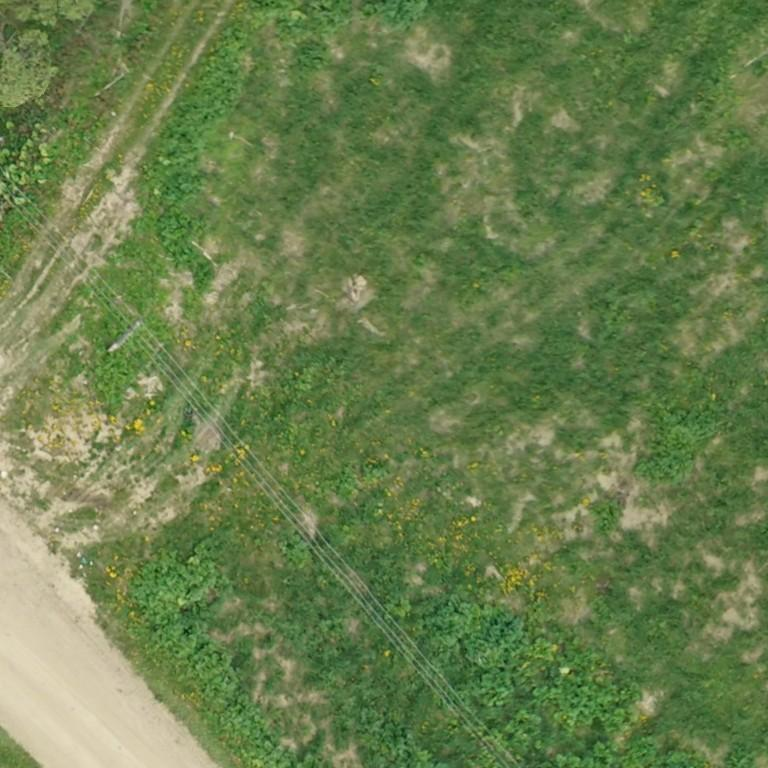hogweed: (131, 540, 321, 767), (407, 595, 615, 755), (158, 26, 245, 288), (330, 698, 444, 767), (249, 0, 351, 68), (638, 405, 716, 479), (539, 736, 702, 767), (98, 350, 133, 408), (363, 0, 426, 25), (728, 750, 755, 767)
